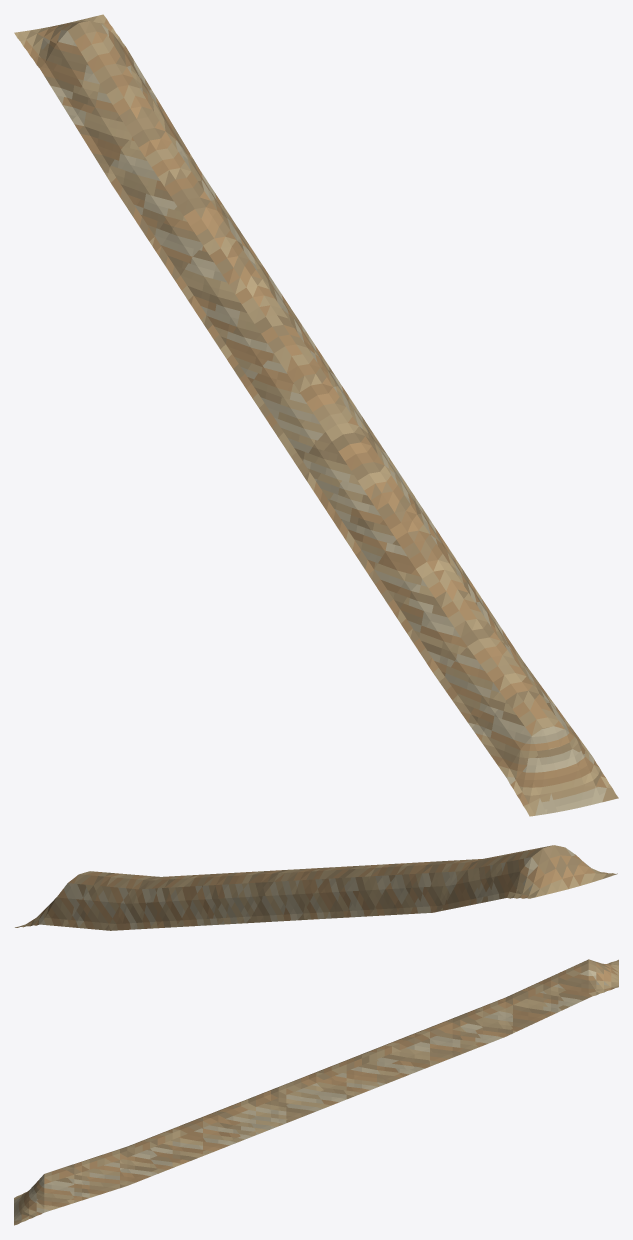
Rendered from dam_cliff_rooms_west.glb.
3 views of the same model, one above another, from view 1: azimuth 30°, elevation 25°; view 2: azimuth 210°, elevation 25°; view 3: azimuth 270°, elevation 25° (orthographic). The views are drawn at different scales.
Parts seen in each view (by area): view 1: dam_cliff_rooms_west; view 2: dam_cliff_rooms_west; view 3: dam_cliff_rooms_west.
Boxes of the visible parts, left/top/right/bottom form: dam_cliff_rooms_west: left=14, top=14, right=618, bottom=816; dam_cliff_rooms_west: left=15, top=845, right=617, bottom=930; dam_cliff_rooms_west: left=14, top=959, right=618, bottom=1225.
Bounding box in the file's own units: 16 × 73.43 × 160.
